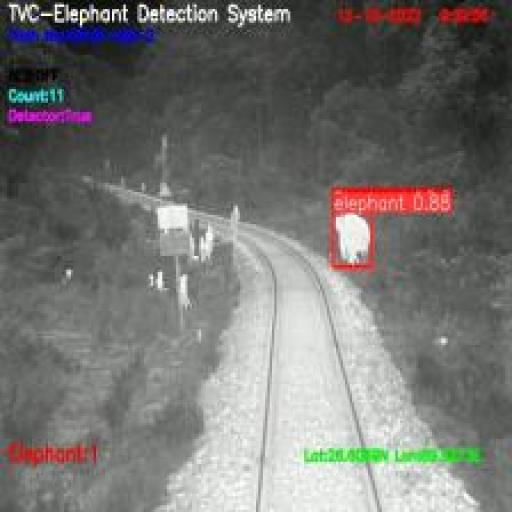Elephant: (334, 212, 372, 270)
